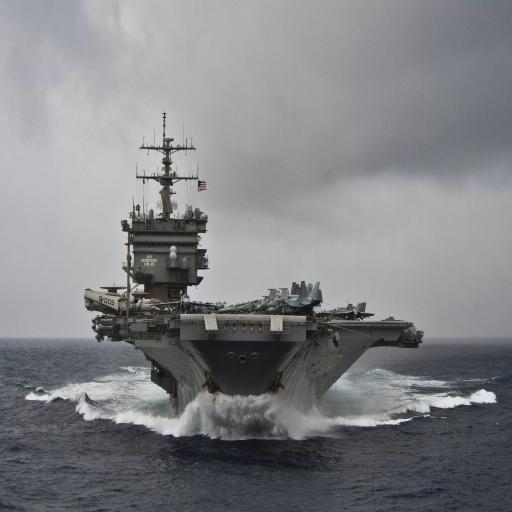Portanaves: (82, 104, 427, 446)
